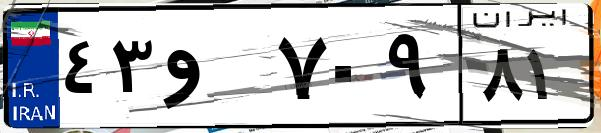0: (330, 28, 385, 110)
1: (525, 38, 570, 115)
3: (110, 28, 158, 98)
4: (57, 26, 110, 100)
7: (270, 28, 330, 110)
8: (475, 38, 525, 113)
9: (385, 28, 445, 110)
و: (158, 20, 270, 120)
